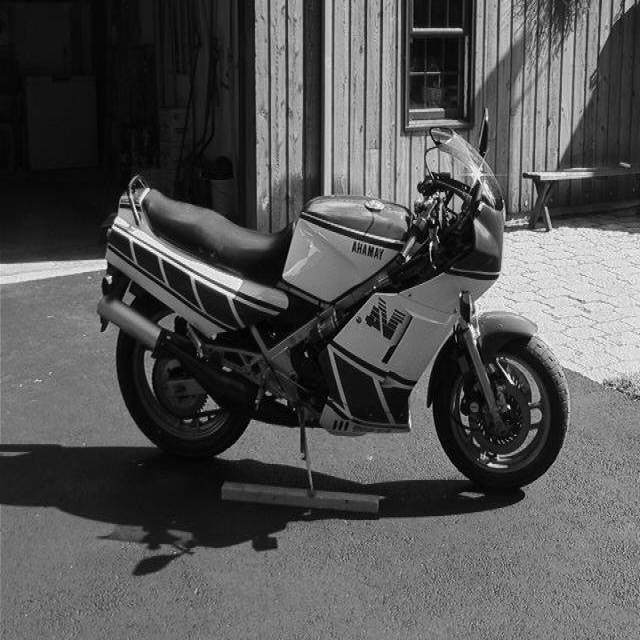Motorcycle: (97, 127, 570, 489)
